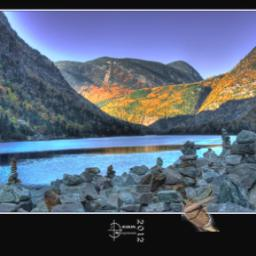Cuckoo: (183, 183, 220, 232)
